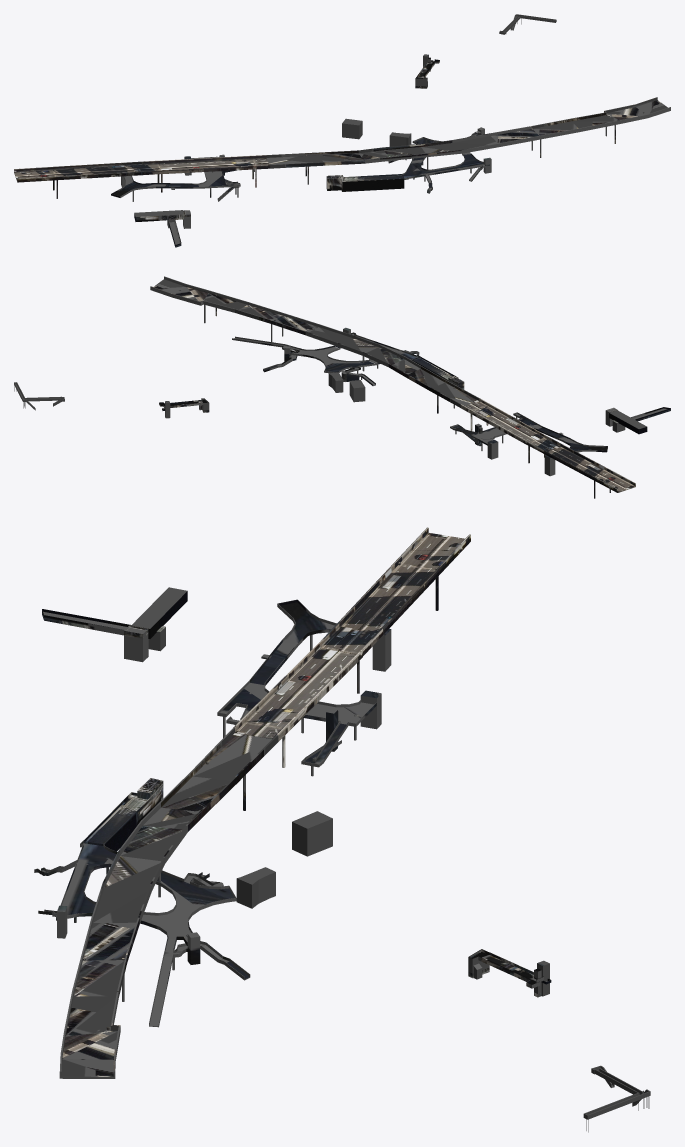
Rendered from 53393586_brid_6697_op.fbx.
The picture shows the model from 3 angles, top to bottom: view 1: azimuth 30°, elevation 25°; view 2: azimuth 150°, elevation 25°; view 3: azimuth 270°, elevation 25°; orthographic projection. The views are drawn at different scales.
Parts seen in each view (by area): view 1: brid_c6c7487e-4b87-475c-98ee-1fdac838e437, brid_9e1f3213-546b-4b89-b299-ea2ded3c94a1, brid_1a797168-8184-406b-a000-0cba3a956ad2, brid_daf508c7-d16a-4eb0-8362-38357f09c926, brid_a4b84d31-86b6-451a-b709-997c9ed4da8a, brid_294e1f54-a3d6-46b1-966c-ed1c1d1ac1e0, brid_d49e0d3f-4795-47b8-9cea-89e752b4024b, brid_a0bf856e-ac38-42df-905f-38b0740e527e; view 2: brid_c6c7487e-4b87-475c-98ee-1fdac838e437, brid_9e1f3213-546b-4b89-b299-ea2ded3c94a1, brid_1a797168-8184-406b-a000-0cba3a956ad2, brid_bccabccc-ff5b-442b-a9dc-ad2bf4d1e416, brid_294e1f54-a3d6-46b1-966c-ed1c1d1ac1e0, brid_daf508c7-d16a-4eb0-8362-38357f09c926, brid_d49e0d3f-4795-47b8-9cea-89e752b4024b, brid_a4b84d31-86b6-451a-b709-997c9ed4da8a, brid_5fdbd860-400d-4fd7-810f-4a1a4033f4d9; view 3: brid_c6c7487e-4b87-475c-98ee-1fdac838e437, brid_9e1f3213-546b-4b89-b299-ea2ded3c94a1, brid_1a797168-8184-406b-a000-0cba3a956ad2, brid_bccabccc-ff5b-442b-a9dc-ad2bf4d1e416, brid_294e1f54-a3d6-46b1-966c-ed1c1d1ac1e0, brid_a4b84d31-86b6-451a-b709-997c9ed4da8a, brid_daf508c7-d16a-4eb0-8362-38357f09c926, brid_d49e0d3f-4795-47b8-9cea-89e752b4024b, brid_a0bf856e-ac38-42df-905f-38b0740e527e, brid_3178fa1f-4231-43ec-95c7-23e114bb5795, brid_5fdbd860-400d-4fd7-810f-4a1a4033f4d9.
Part boxes in pixels (x1=…): brid_c6c7487e-4b87-475c-98ee-1fdac838e437: x1=266, y1=97, x2=670, y2=184; brid_9e1f3213-546b-4b89-b299-ea2ded3c94a1: x1=14, y1=155, x2=270, y2=198; brid_1a797168-8184-406b-a000-0cba3a956ad2: x1=111, y1=154, x2=254, y2=201; brid_daf508c7-d16a-4eb0-8362-38357f09c926: x1=326, y1=174, x2=404, y2=191; brid_a4b84d31-86b6-451a-b709-997c9ed4da8a: x1=402, y1=153, x2=491, y2=193; brid_294e1f54-a3d6-46b1-966c-ed1c1d1ac1e0: x1=134, y1=210, x2=190, y2=247; brid_d49e0d3f-4795-47b8-9cea-89e752b4024b: x1=415, y1=54, x2=439, y2=88; brid_a0bf856e-ac38-42df-905f-38b0740e527e: x1=342, y1=118, x2=362, y2=139; brid_c6c7487e-4b87-475c-98ee-1fdac838e437: x1=150, y1=276, x2=478, y2=413; brid_9e1f3213-546b-4b89-b299-ea2ded3c94a1: x1=460, y1=398, x2=635, y2=498; brid_1a797168-8184-406b-a000-0cba3a956ad2: x1=450, y1=412, x2=607, y2=476; brid_bccabccc-ff5b-442b-a9dc-ad2bf4d1e416: x1=232, y1=336, x2=377, y2=385; brid_294e1f54-a3d6-46b1-966c-ed1c1d1ac1e0: x1=605, y1=407, x2=670, y2=434; brid_daf508c7-d16a-4eb0-8362-38357f09c926: x1=412, y1=356, x2=464, y2=389; brid_d49e0d3f-4795-47b8-9cea-89e752b4024b: x1=159, y1=398, x2=209, y2=418; brid_a4b84d31-86b6-451a-b709-997c9ed4da8a: x1=335, y1=327, x2=420, y2=364; brid_5fdbd860-400d-4fd7-810f-4a1a4033f4d9: x1=14, y1=382, x2=64, y2=410; brid_c6c7487e-4b87-475c-98ee-1fdac838e437: x1=59, y1=728, x2=278, y2=1078; brid_9e1f3213-546b-4b89-b299-ea2ded3c94a1: x1=233, y1=527, x2=470, y2=767; brid_1a797168-8184-406b-a000-0cba3a956ad2: x1=217, y1=599, x2=391, y2=776; brid_bccabccc-ff5b-442b-a9dc-ad2bf4d1e416: x1=140, y1=870, x2=250, y2=1027; brid_294e1f54-a3d6-46b1-966c-ed1c1d1ac1e0: x1=42, y1=587, x2=187, y2=662; brid_a4b84d31-86b6-451a-b709-997c9ed4da8a: x1=34, y1=840, x2=117, y2=938; brid_daf508c7-d16a-4eb0-8362-38357f09c926: x1=83, y1=778, x2=163, y2=851; brid_d49e0d3f-4795-47b8-9cea-89e752b4024b: x1=468, y1=949, x2=551, y2=997; brid_a0bf856e-ac38-42df-905f-38b0740e527e: x1=292, y1=811, x2=332, y2=856; brid_3178fa1f-4231-43ec-95c7-23e114bb5795: x1=236, y1=867, x2=275, y2=908; brid_5fdbd860-400d-4fd7-810f-4a1a4033f4d9: x1=583, y1=1065, x2=650, y2=1132.
Bounding box in the file's own units: 479 × 23 × 221.
